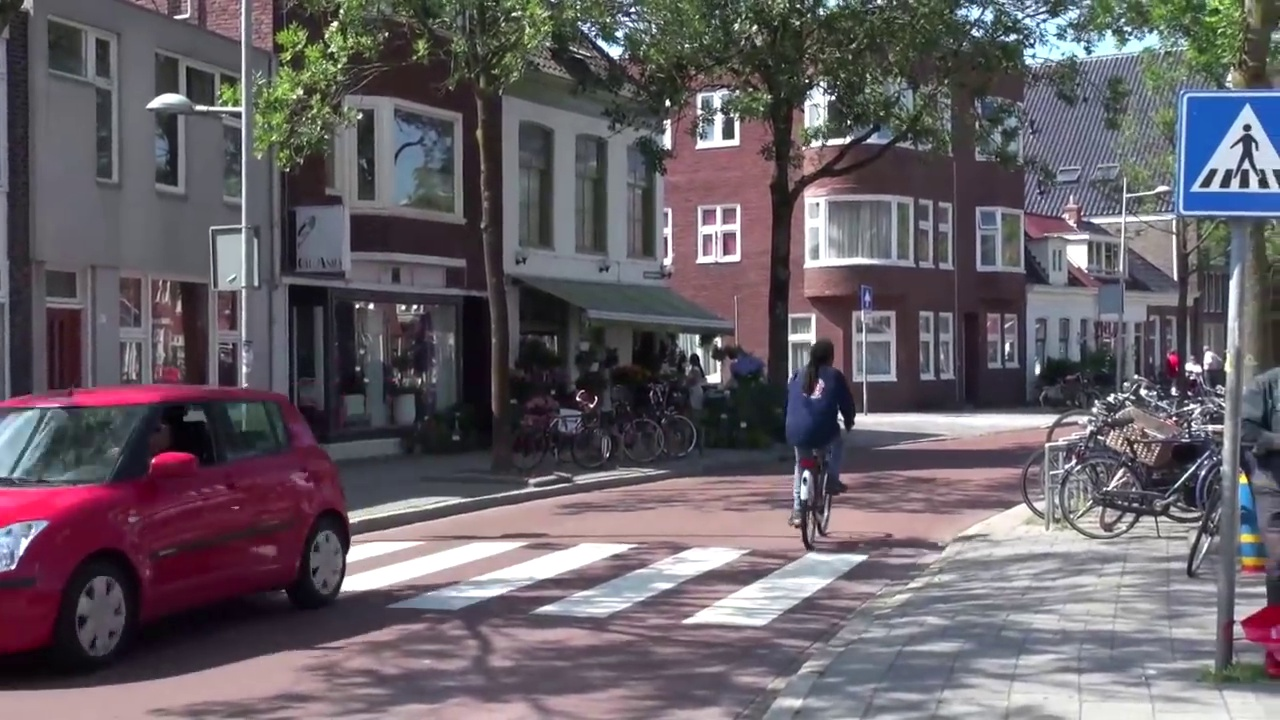cyclist_back: (788, 332, 855, 551)
